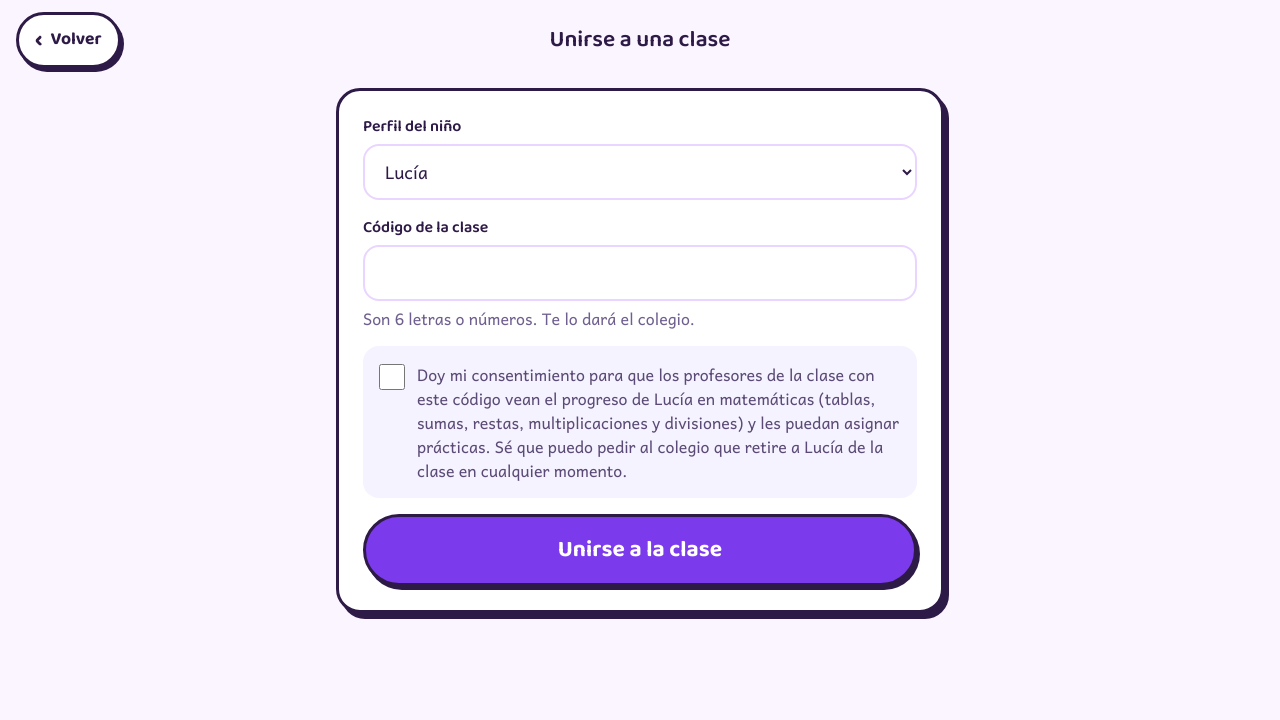
Scenario: JoinClassScreen › shows the server message when the code is not valid
Step 1. Type "ZZ99ZZ" into the field labelled "Código de la clase" → (640, 273), box x1=363 y1=245 x2=917 y2=301
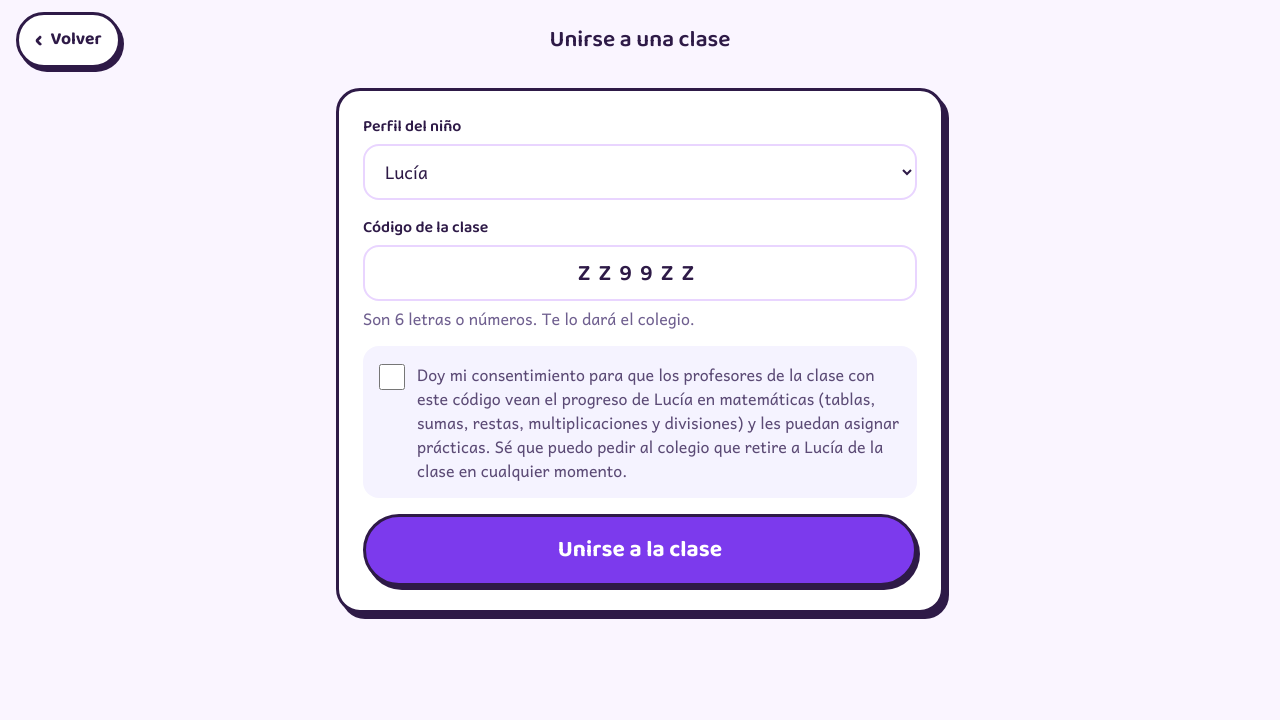
Step 2. Click the checkbox → (392, 377), box x1=379 y1=364 x2=405 y2=390
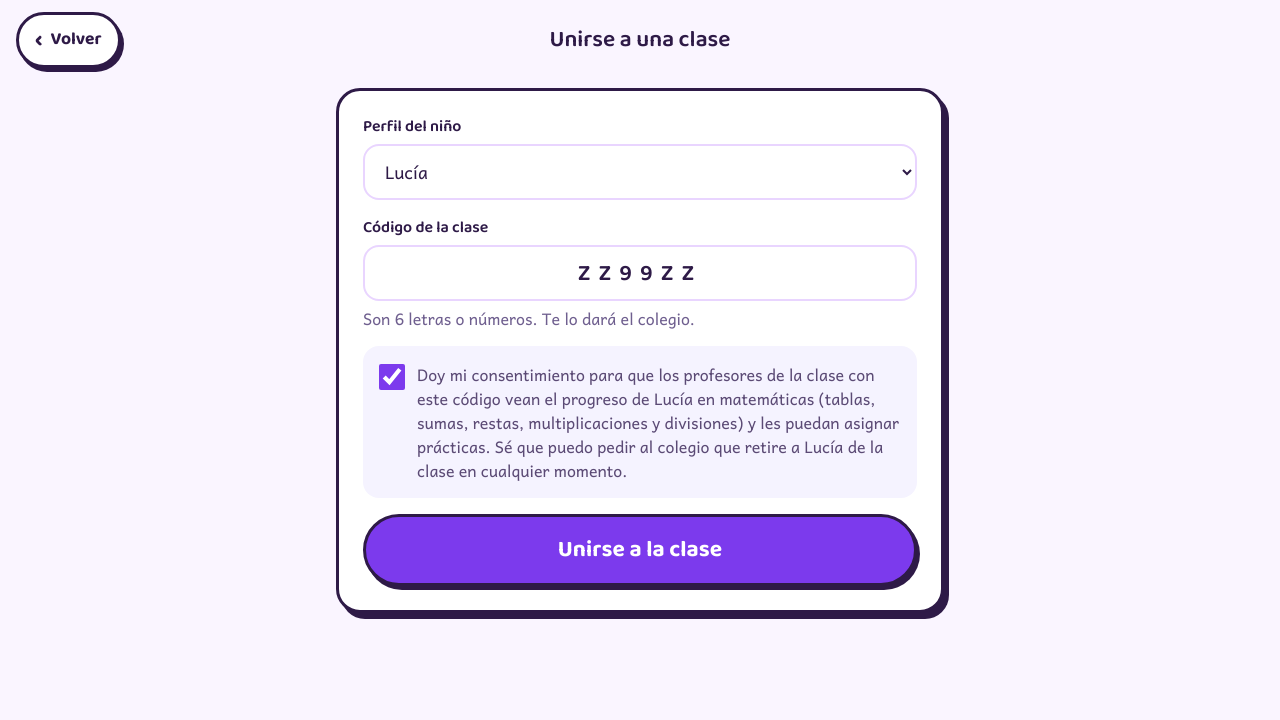
Step 3. Click the button "Unirse a la clase" → (640, 550), box x1=363 y1=514 x2=917 y2=586
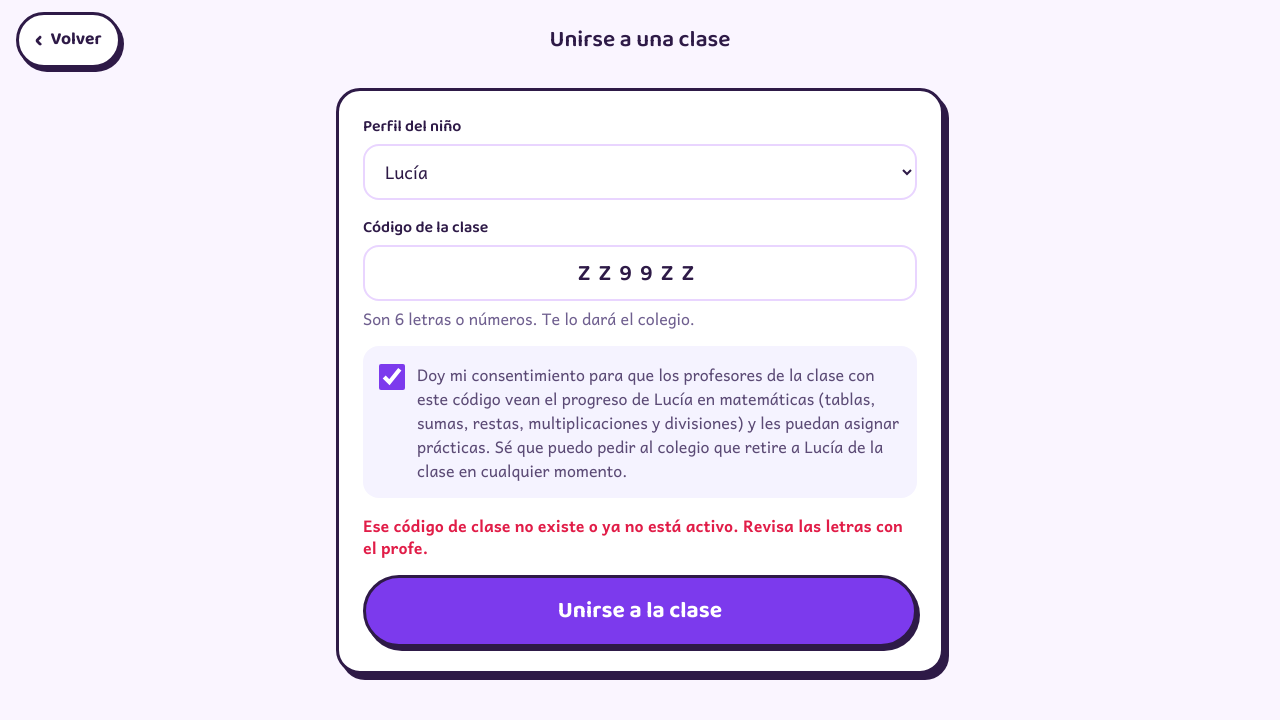
Expected: the message shows "Ese código de clase no existe", x1=363 y1=512 x2=903 y2=560
